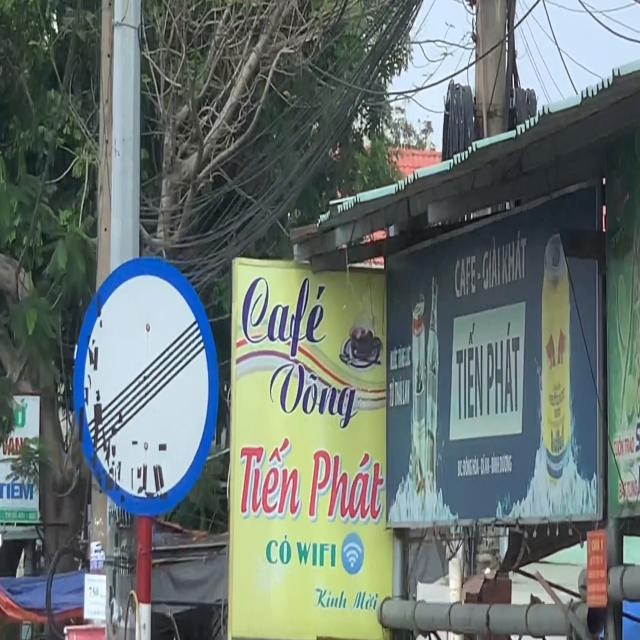Het tat ca lenh cam: (72, 255, 220, 518)
